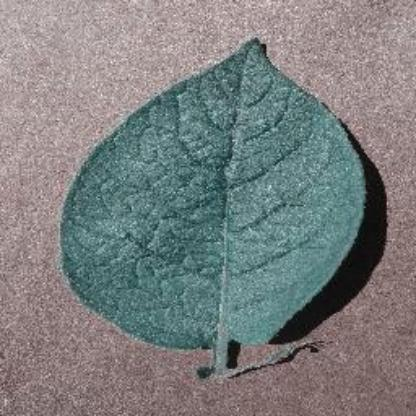Healthy-plant: (63, 34, 377, 380)
